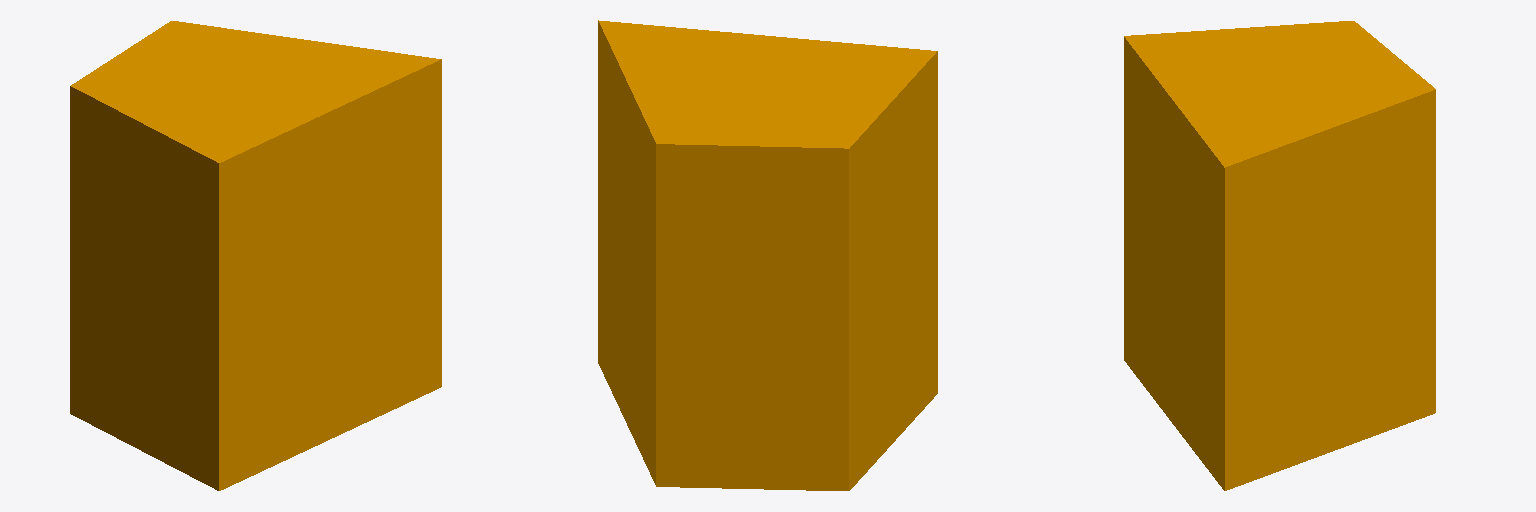
The robot description file, URDF, robot "object":
<?xml version="1.0"?>
<robot name="object">
  <link name="object">
    <visual>
      <origin xyz="0 0 0"/>
      <geometry>
        <mesh filename="meshes/generated/col_099.obj" scale="0.03 0.03 0.03"/>
      </geometry>
    </visual>
    <collision>
      <origin xyz="0 0 0"/>
      <geometry>
        <mesh filename="meshes/generated/col_099.obj" scale="0.03 0.03 0.03"/>
      </geometry>
    </collision>
    <inertial>
      <density value="1000.0"/>
    </inertial>
  </link>
</robot>

--- Facts derived from the render (not from the file) ---
The picture shows the robot from 3 angles, left to right: view 1: azimuth 30°, elevation 25°; view 2: azimuth 150°, elevation 25°; view 3: azimuth 270°, elevation 25°; orthographic projection.
Model object with 1 links and 0 joints (none), rooted at object, posed all joints at 0.
Links seen in each view (by area): view 1: object; view 2: object; view 3: object.
Link boxes in pixels (x1,y1,x2,y2): object: (70, 21, 441, 490); object: (598, 20, 937, 490); object: (1124, 21, 1435, 490).
Bounding box of the posed robot: 0.0585 × 0.0525 × 0.06 m (x, y, z).
1 mesh visuals loaded from 1 distinct referenced files (1 OBJ).
